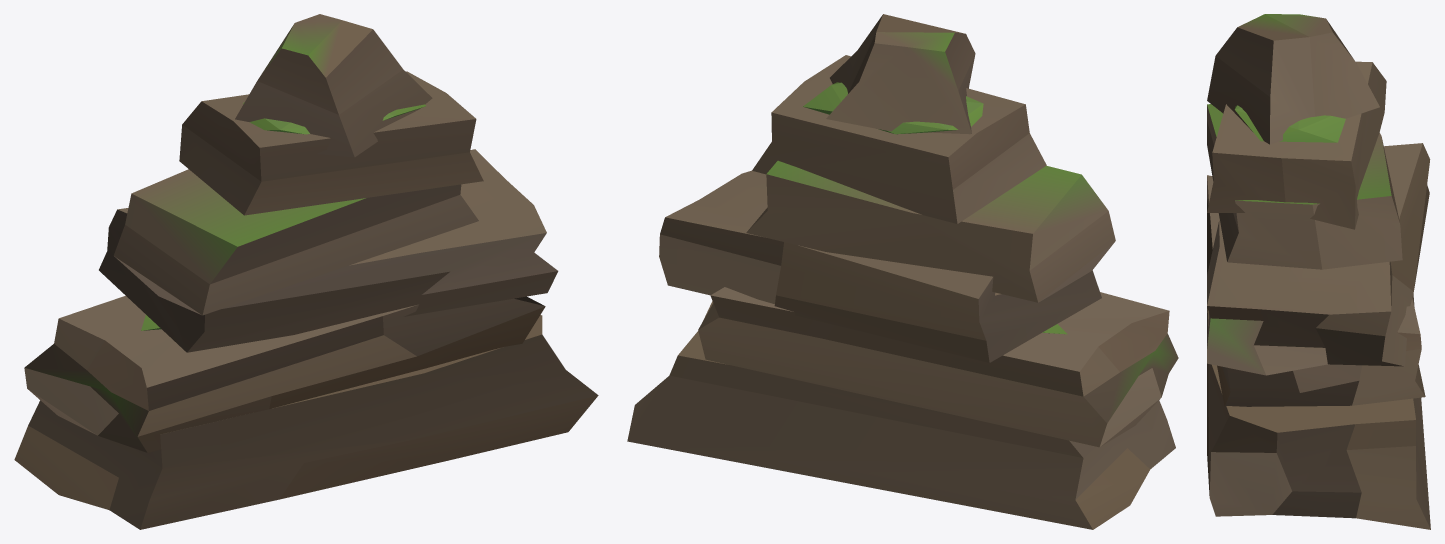
Rendered from cave_rockform_slabs_v3.fbx.
The picture shows the model from 3 angles, left to right: view 1: azimuth 30°, elevation 25°; view 2: azimuth 150°, elevation 25°; view 3: azimuth 270°, elevation 25°; orthographic projection. The views are drawn at different scales.
Visible parts, largest first — view 1: cave_rockform_slabs_v3; view 2: cave_rockform_slabs_v3; view 3: cave_rockform_slabs_v3.
Part boxes in pixels (x1=…): cave_rockform_slabs_v3: x1=14, y1=14, x2=598, y2=529; cave_rockform_slabs_v3: x1=627, y1=14, x2=1178, y2=529; cave_rockform_slabs_v3: x1=1207, y1=14, x2=1430, y2=529.
Bounding box in the file's own units: 1501 × 1268 × 636.
